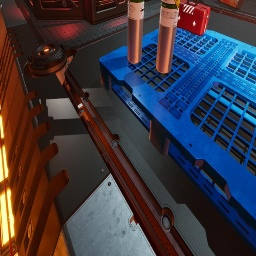0: (156, 0, 180, 74), (127, 0, 144, 64)
FirstAidBox ,: (177, 0, 210, 36)
NitrogenTank ,: (217, 0, 244, 10)
